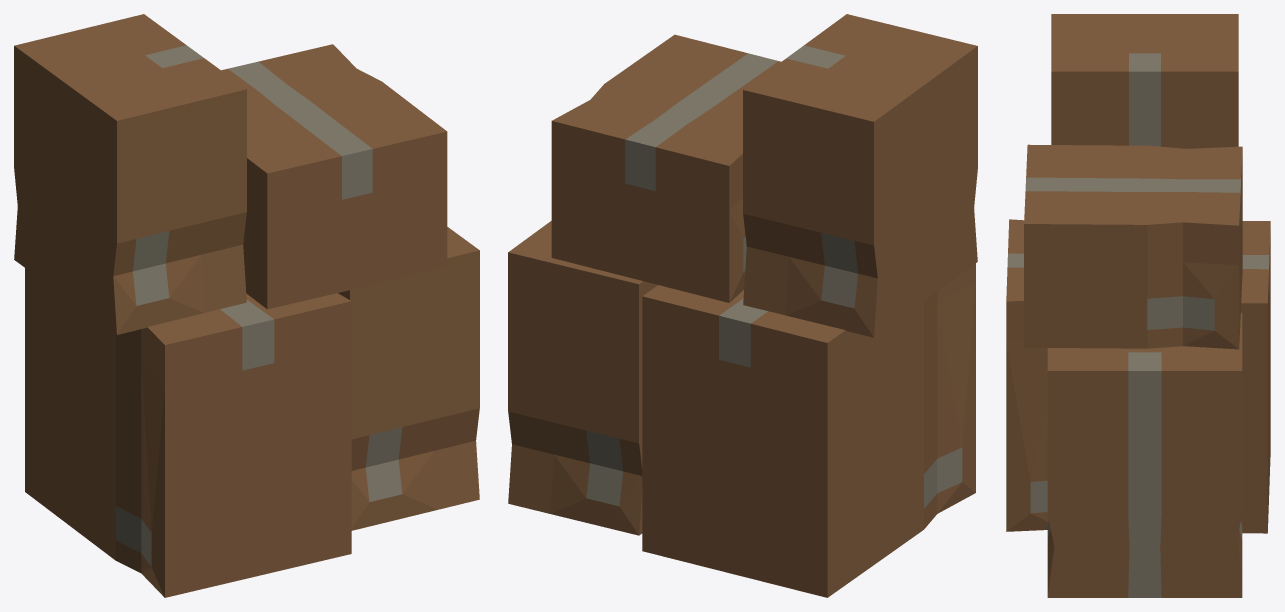
Rendered from boxes.glb.
3 views of the same model, side by side, from view 1: azimuth 30°, elevation 25°; view 2: azimuth 150°, elevation 25°; view 3: azimuth 270°, elevation 25° (orthographic). The views are drawn at different scales.
Parts seen in each view (by area): view 1: CardboardBoxes_4; view 2: CardboardBoxes_4; view 3: CardboardBoxes_4.
Part boxes in pixels (x1=…): CardboardBoxes_4: x1=14, y1=14, x2=479, y2=597; CardboardBoxes_4: x1=508, y1=14, x2=977, y2=597; CardboardBoxes_4: x1=1006, y1=14, x2=1270, y2=597.
Bounding box in the file's own units: 1.42 × 1.75 × 0.9863.
